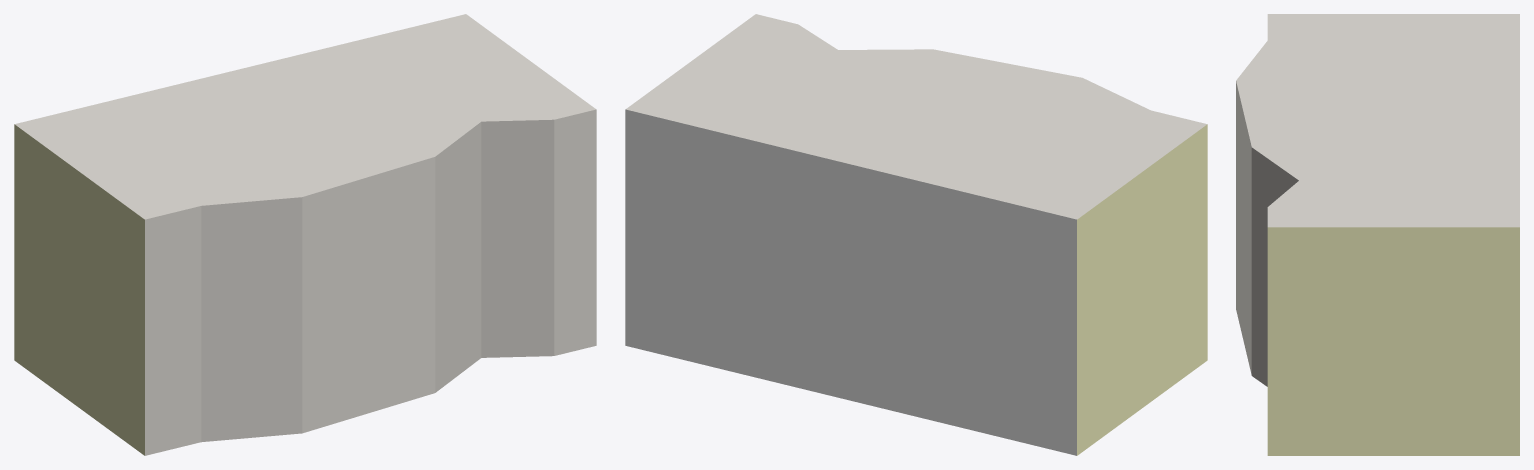
File: Cracked_Straight_2x2_1_Mid.glb
3 views of the same model, side by side, from view 1: azimuth 30°, elevation 25°; view 2: azimuth 150°, elevation 25°; view 3: azimuth 270°, elevation 25° (orthographic). The views are drawn at different scales.
Parts seen in each view (by area): view 1: Cracked_Straight_2x2_1_Mid; view 2: Cracked_Straight_2x2_1_Mid; view 3: Cracked_Straight_2x2_1_Mid.
Part boxes in pixels (x1,y1,x2,y2): Cracked_Straight_2x2_1_Mid: (14,14,596,455); Cracked_Straight_2x2_1_Mid: (625,14,1207,455); Cracked_Straight_2x2_1_Mid: (1236,14,1519,455).
Bounding box in the file's own units: 200 × 100 × 113.
